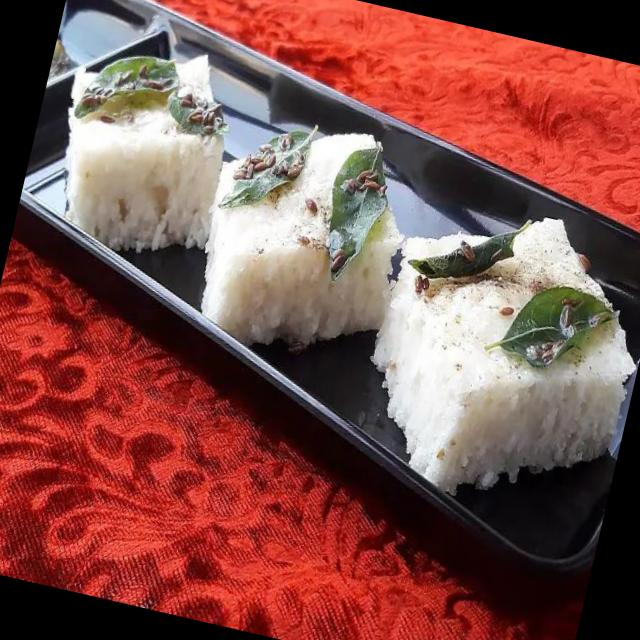dhokla: (351, 168, 640, 524), (178, 72, 420, 365), (19, 0, 258, 274)
